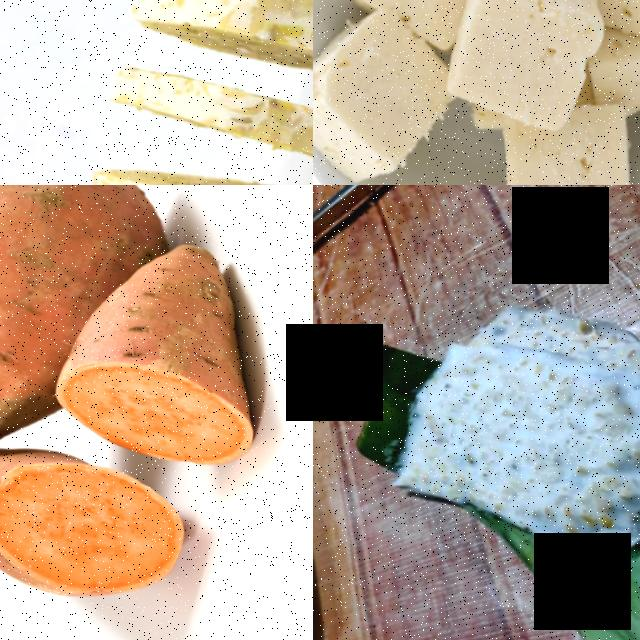sweet potato: (34, 217, 301, 490), (0, 418, 201, 632), (0, 185, 179, 301), (0, 232, 82, 461)
tempeh: (389, 317, 640, 573), (92, 43, 313, 185), (116, 0, 313, 110), (72, 132, 313, 185)
tofu: (429, 0, 618, 148), (313, 6, 459, 185), (471, 128, 640, 185), (578, 26, 640, 132)
